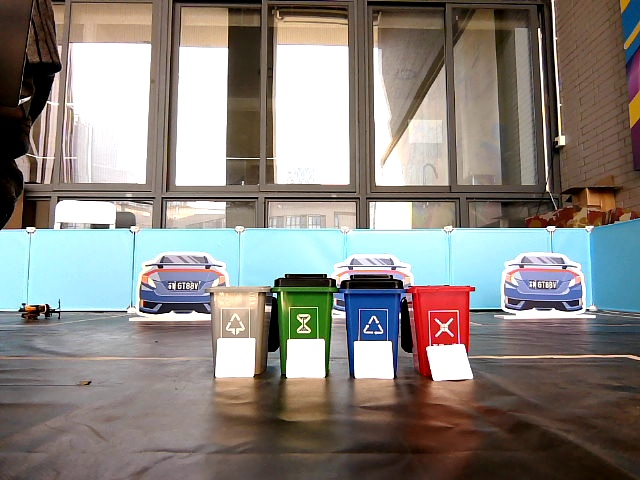blue_close: (343, 273, 398, 337)
green_close: (276, 274, 328, 335)
grey_open: (211, 285, 267, 337)
red_open: (413, 284, 466, 343)
